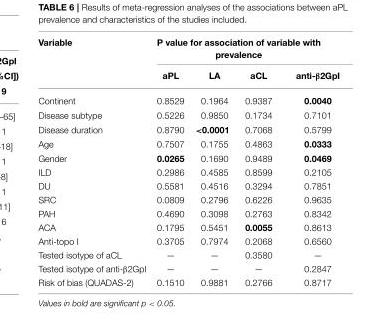table: (37, 37, 338, 286)
table column: (37, 37, 150, 286), (283, 37, 338, 286), (188, 37, 236, 286), (236, 37, 283, 286), (150, 37, 188, 286)
table column header: (37, 37, 338, 88)
table row: (37, 37, 338, 64), (37, 64, 338, 88), (37, 88, 338, 108), (37, 136, 338, 151), (37, 108, 338, 122), (37, 122, 338, 136), (37, 151, 338, 165), (37, 165, 338, 179), (37, 192, 338, 206), (37, 206, 338, 220), (37, 220, 338, 234), (37, 234, 338, 248), (37, 261, 338, 275), (37, 179, 338, 192), (37, 248, 338, 261), (37, 275, 338, 286)
table spanning cell: (37, 37, 150, 88), (150, 37, 338, 64)
